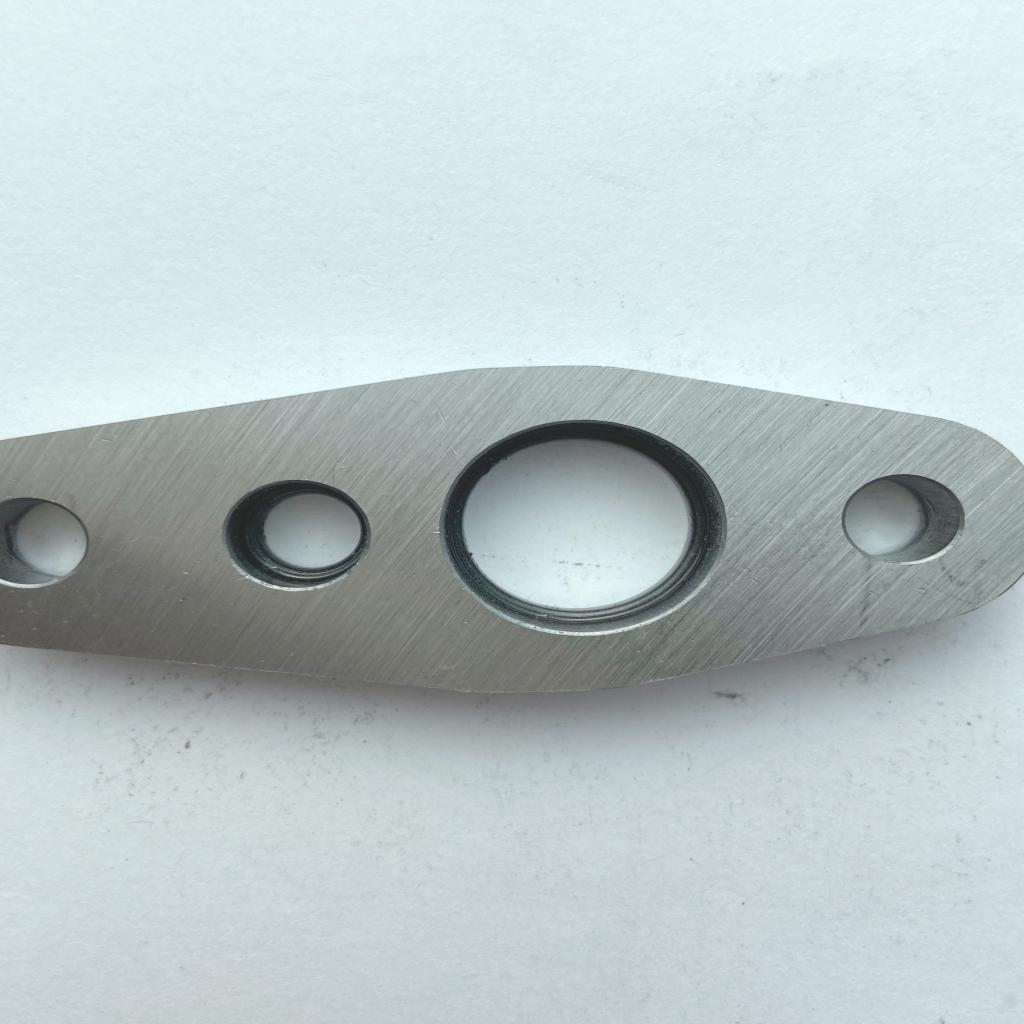chap: (910, 584, 934, 594), (866, 585, 882, 600), (233, 573, 253, 584), (429, 525, 443, 539), (96, 436, 118, 444), (746, 576, 763, 586), (180, 568, 191, 578)
lines: (937, 559, 992, 589), (859, 561, 877, 626)
